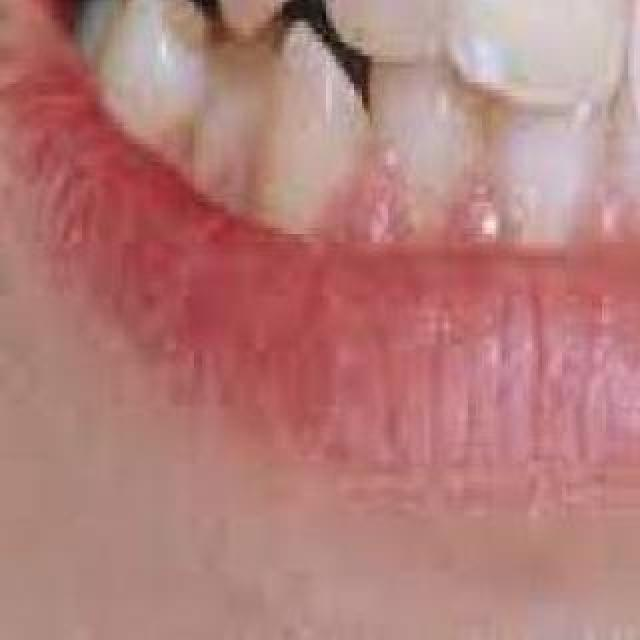maligned: (196, 24, 302, 206), (430, 0, 634, 78), (102, 0, 226, 128), (308, 0, 446, 60)
spacing: (329, 68, 389, 162), (272, 0, 342, 52)
